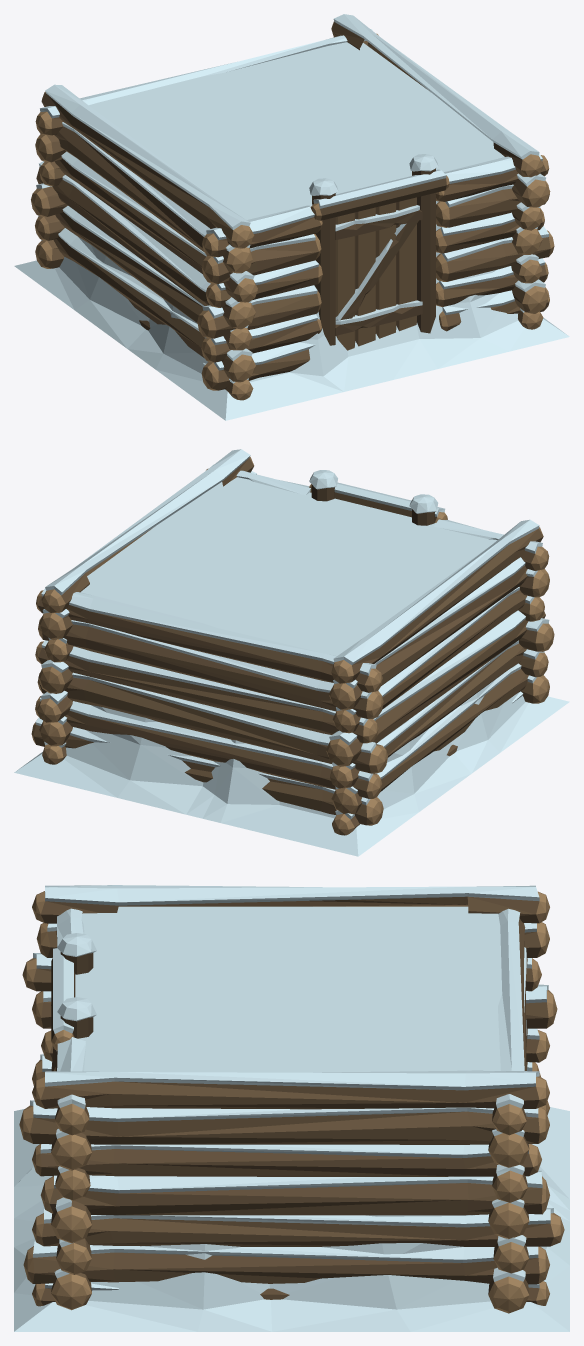
Rendered from SM_Bld_Base_Door_01_Snow.fbx.
3 views of the same model, one above another, from view 1: azimuth 30°, elevation 25°; view 2: azimuth 150°, elevation 25°; view 3: azimuth 270°, elevation 25° (orthographic). The views are drawn at different scales.
Parts seen in each view (by area): view 1: SM_Bld_Base_Door_01_Snow; view 2: SM_Bld_Base_Door_01_Snow; view 3: SM_Bld_Base_Door_01_Snow.
Part boxes in pixels (x1,y1,x2,y2): SM_Bld_Base_Door_01_Snow: [14, 14, 569, 420]; SM_Bld_Base_Door_01_Snow: [14, 449, 569, 856]; SM_Bld_Base_Door_01_Snow: [14, 885, 569, 1331].
Size of the model in its own units: 496 by 260 by 518.
